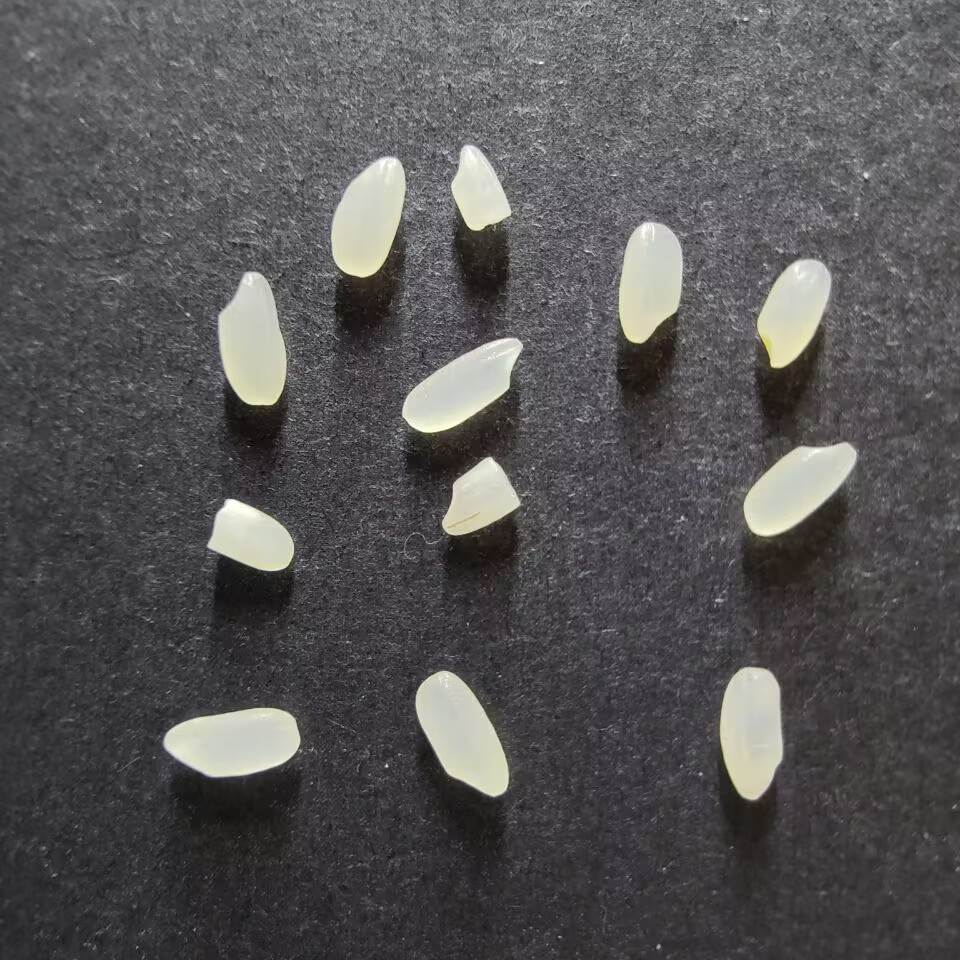broken: (206, 498, 295, 572), (440, 457, 521, 536), (449, 144, 512, 231)
rice: (415, 670, 508, 797), (401, 337, 523, 433), (742, 442, 857, 536), (162, 707, 300, 778), (217, 271, 287, 405), (330, 155, 405, 278), (719, 666, 783, 800), (756, 258, 832, 369), (617, 221, 683, 344)
